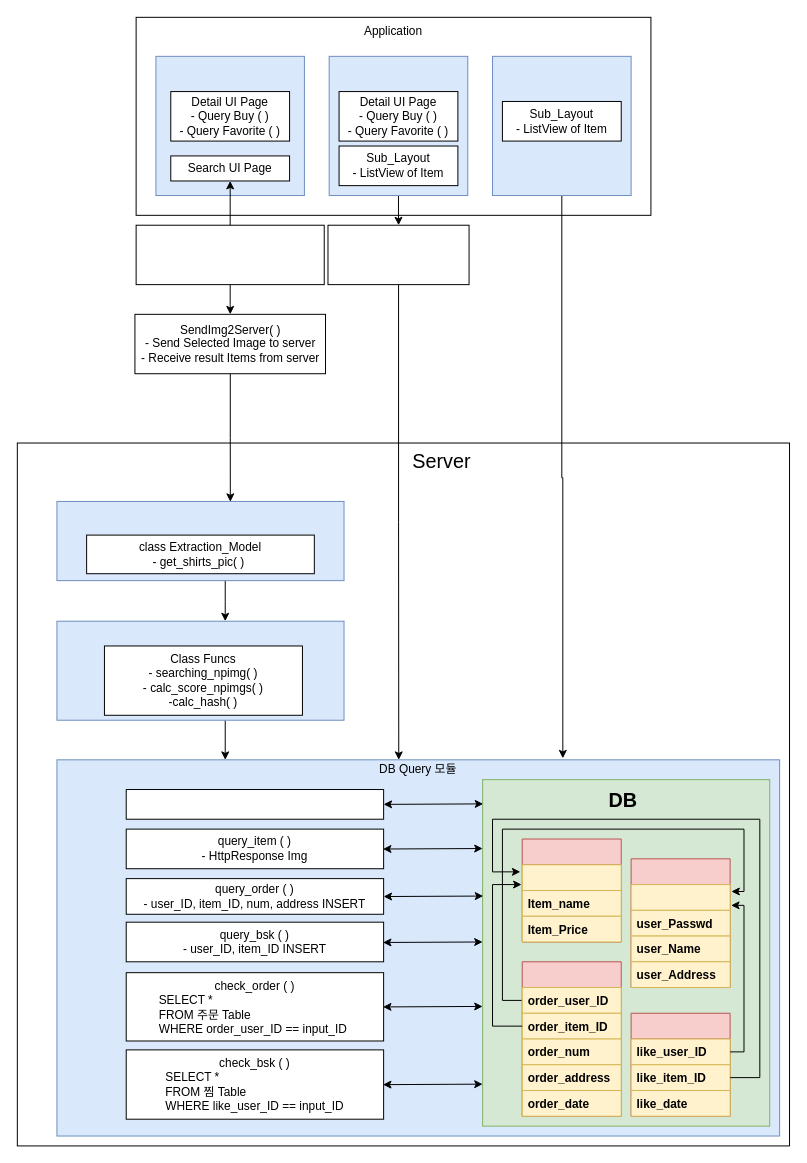
Some shapes in this 807 by 1163 pixel diagram are drawn without their labels. The shapes that lost their labels are listed below. From the top down, each one's box as (x1, y1, x2, y2) in pixels, then its label:
(155, 55, 304, 196): 검색 모듈 GUI
(328, 55, 468, 196): 찜 목록 조회 모듈 GUI
(492, 55, 631, 196): 주문 조회 모듈 GUI
(135, 224, 324, 285): Btn_Click_Image_Select( ) - Select Image from device - Image View with Base64
(327, 224, 469, 285): Btn_Click_check_Bsk( )
(56, 500, 344, 581): 의상 추출 모듈 class Extraction_Model - get_shirts_pic( )
(56, 620, 344, 720): 의상 검색 모듈 Class Funcs - searching_npimg( ) - calc_score_npimgs( ) -calc_hash( )
(125, 789, 384, 819): login_check ( )
(521, 864, 621, 891): Item_ID
(521, 838, 621, 942): 의상 Table
(630, 884, 730, 910): user_ID
(630, 858, 730, 988): 고객 Table
(521, 961, 621, 1116): 주문 Table
(630, 1012, 730, 1116): 찜 Table
